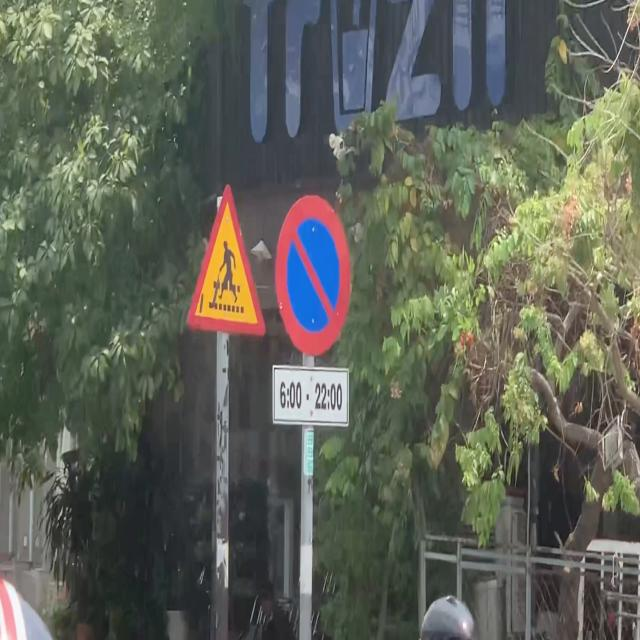Cam do: (274, 193, 351, 358)
Nguoi di bo cat ngang: (185, 181, 267, 339)
